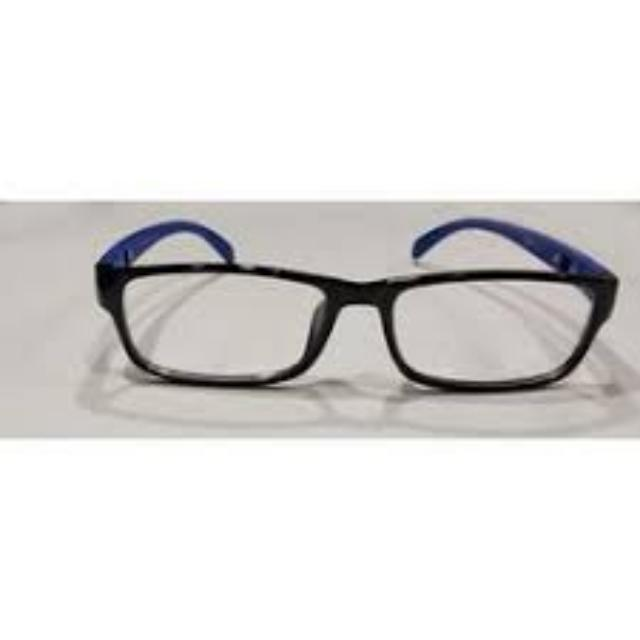glasses: (88, 212, 622, 390)
